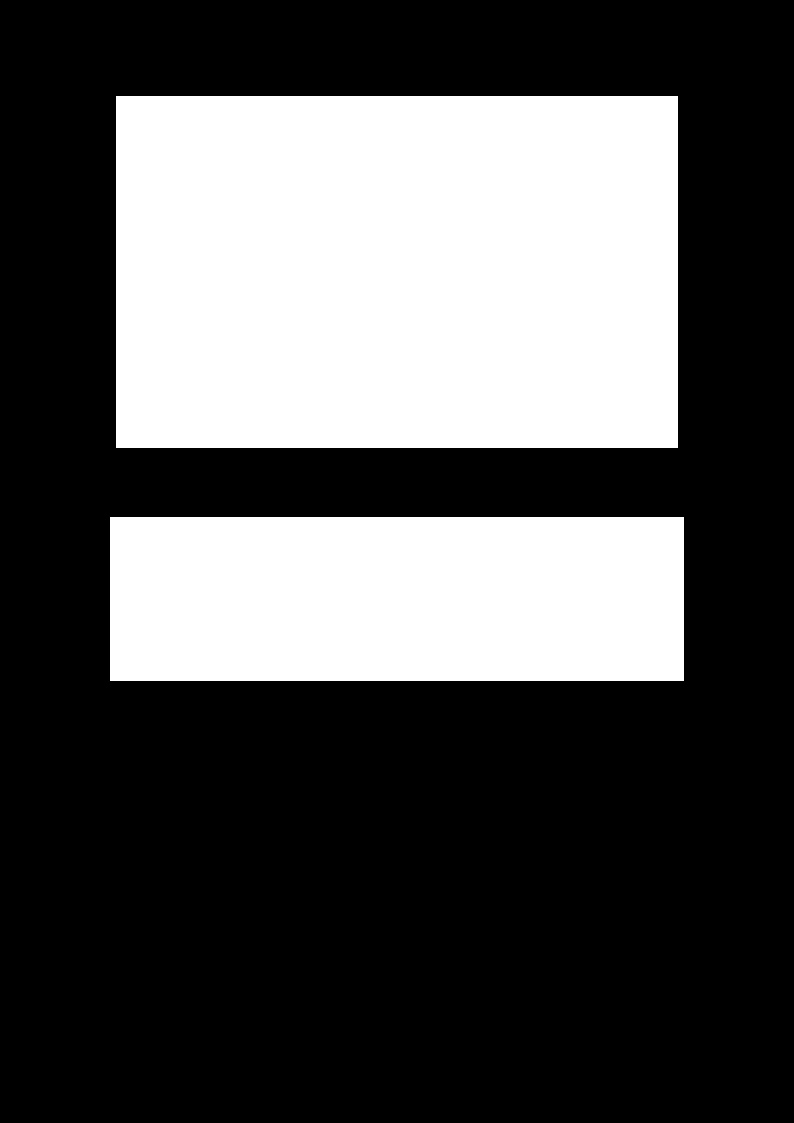table: (116, 96, 677, 447), (110, 517, 683, 680)
